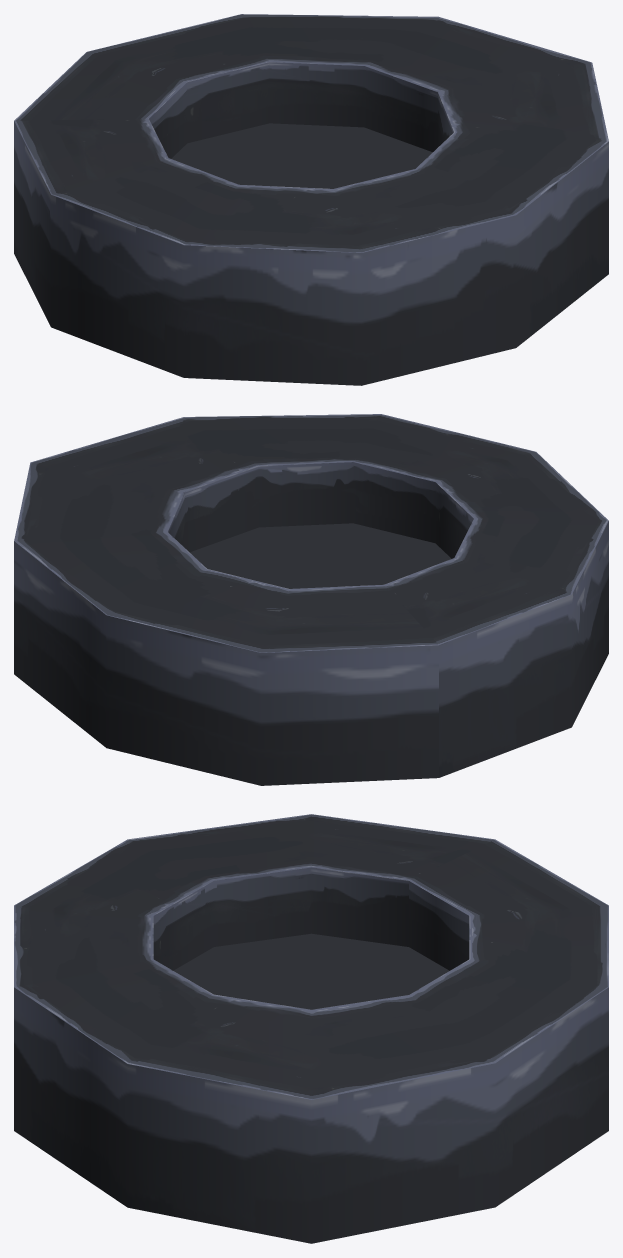
The model's file is SM_PROP_trap_arrow_part_dungeon_01.fbx.
The picture shows the model from 3 angles, top to bottom: view 1: azimuth 30°, elevation 25°; view 2: azimuth 150°, elevation 25°; view 3: azimuth 270°, elevation 25°; orthographic projection. The views are drawn at different scales.
Parts seen in each view (by area): view 1: SM_PROP_trap_arrow_part_dungeon_01; view 2: SM_PROP_trap_arrow_part_dungeon_01; view 3: SM_PROP_trap_arrow_part_dungeon_01.
Part boxes in pixels (x1=…): SM_PROP_trap_arrow_part_dungeon_01: x1=14, y1=14, x2=608, y2=385; SM_PROP_trap_arrow_part_dungeon_01: x1=14, y1=414, x2=608, y2=785; SM_PROP_trap_arrow_part_dungeon_01: x1=14, y1=814, x2=608, y2=1243.
Size of the model in its own units: 41.29 by 10.26 by 36.31.
